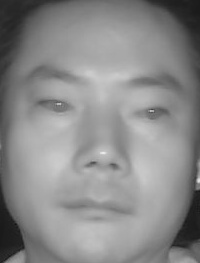eye: (33, 96, 76, 119), (133, 103, 170, 126)
mouth: (64, 187, 137, 229)
